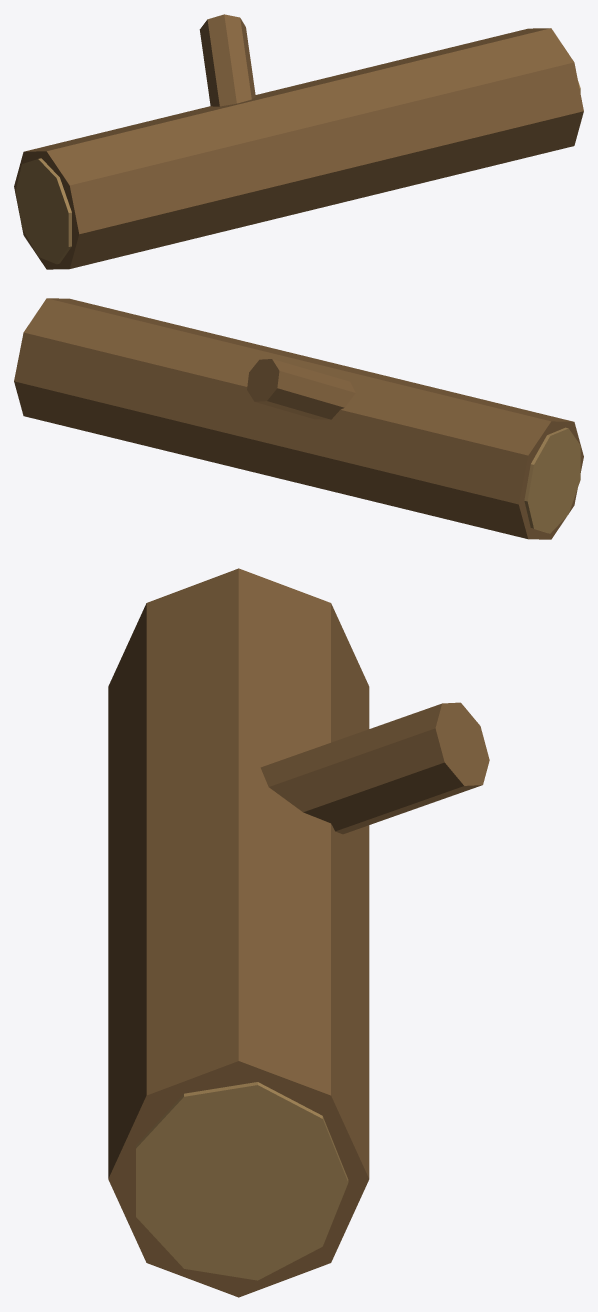
Rendered from BP_Fallen_Log.fbx.
3 views of the same model, one above another, from view 1: azimuth 30°, elevation 25°; view 2: azimuth 150°, elevation 25°; view 3: azimuth 270°, elevation 25° (orthographic). The views are drawn at different scales.
Visible parts, largest first — view 1: BP_Fallen_Log; view 2: BP_Fallen_Log; view 3: BP_Fallen_Log.
Part boxes in pixels (x1,y1,x2,y2): BP_Fallen_Log: (14, 14, 583, 269); BP_Fallen_Log: (14, 298, 583, 539); BP_Fallen_Log: (108, 568, 489, 1297).
Bounding box in the file's own units: 254 × 76.8 × 81.81.
